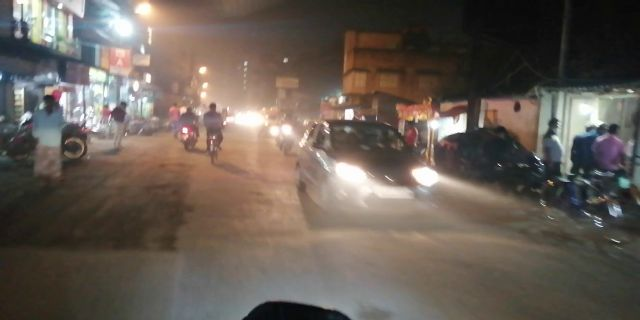Car: (306, 119, 446, 227)
Cycle: (202, 101, 230, 167)
Motorbike: (179, 105, 197, 150)
